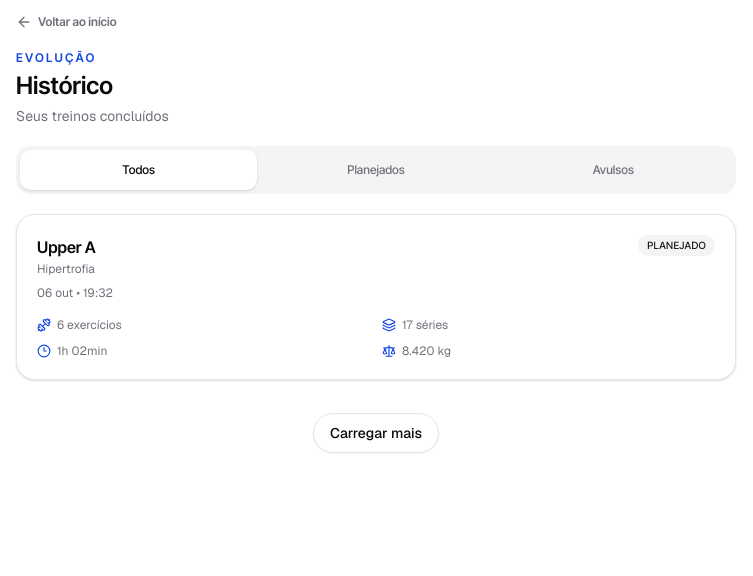
Test: Workout history UI — Task 3.5 › preserva a página atual após erro de load more e repete o mesmo cursor no retry
What coordinates should you click on to do the following:
click the button "Carregar mais"
I would click on:
 (376, 433)
Its box is top-left (313, 413), bottom-right (439, 453).
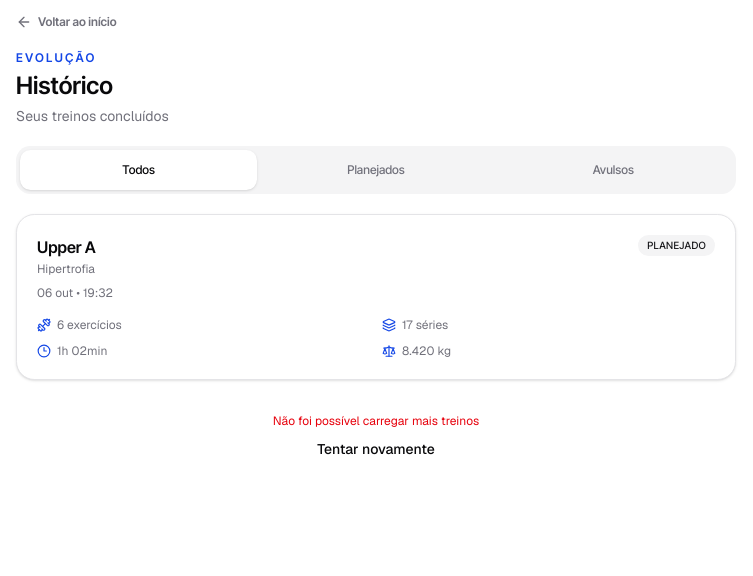
expect the heading "Upper A" is shown: met, box top-left (37, 235), bottom-right (96, 259)
expect the text "Não foi possível carregar mais treinos" is shown: met, box top-left (273, 413), bottom-right (479, 429)
What coordinates should you click on to do the following:
click the button "Tentar novamente"
I would click on:
 (376, 449)
Its box is top-left (305, 433), bottom-right (447, 465).
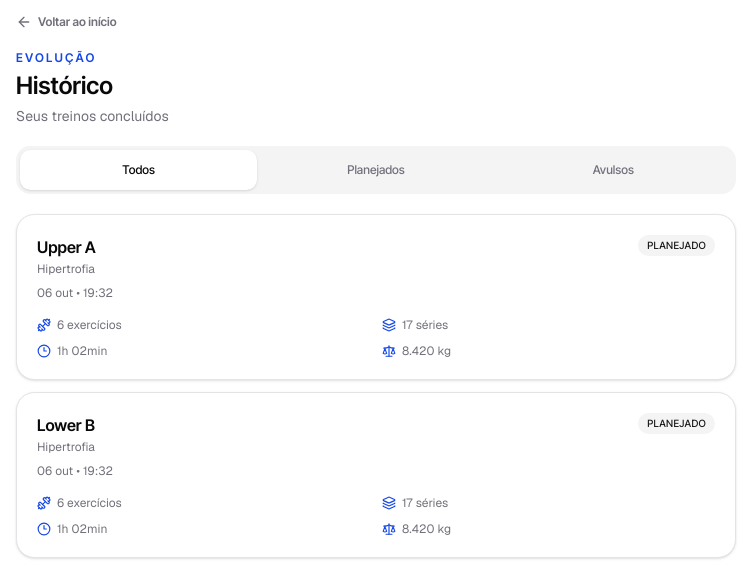
expect the heading "Lower B" is shown: met, box top-left (37, 413), bottom-right (95, 437)
